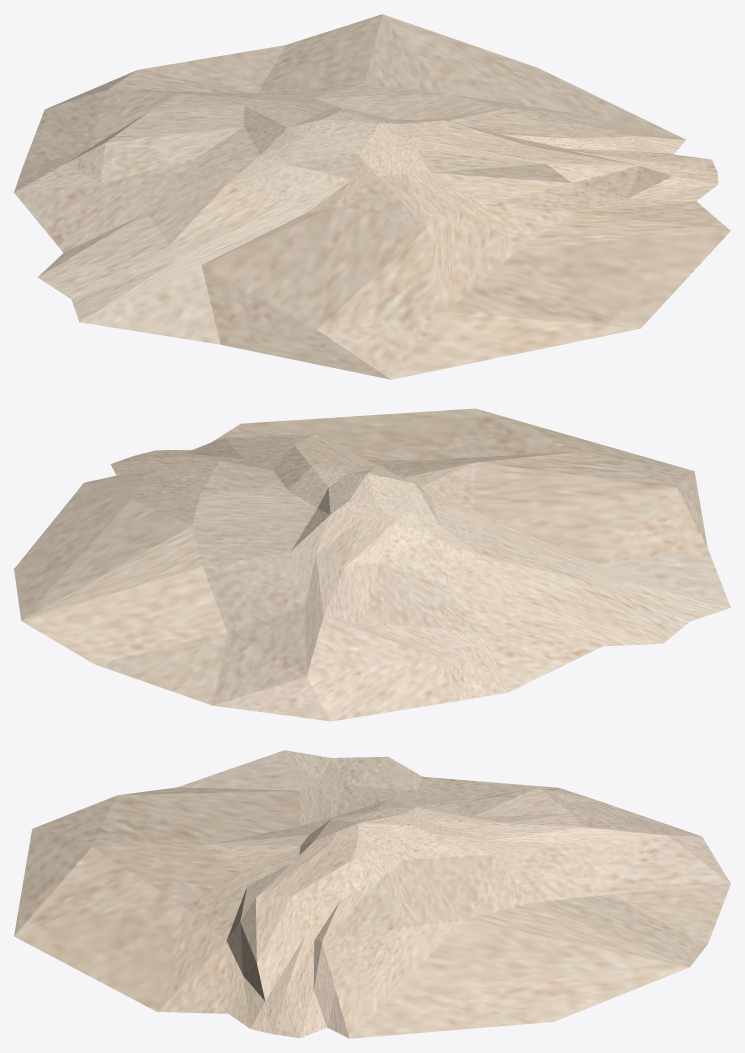
File: Island.glb
The picture shows the model from 3 angles, top to bottom: view 1: azimuth 30°, elevation 25°; view 2: azimuth 150°, elevation 25°; view 3: azimuth 270°, elevation 25°; orthographic projection. The views are drawn at different scales.
Visible parts, largest first — view 1: Icosphere; view 2: Icosphere; view 3: Icosphere.
Part boxes in pixels (bbox=[...]): Icosphere: bbox=[14, 14, 730, 379]; Icosphere: bbox=[14, 408, 730, 721]; Icosphere: bbox=[14, 750, 730, 1038].
Bounding box in the file's own units: 56.9 × 7.37 × 59.74.
1 material, 1 textured.
